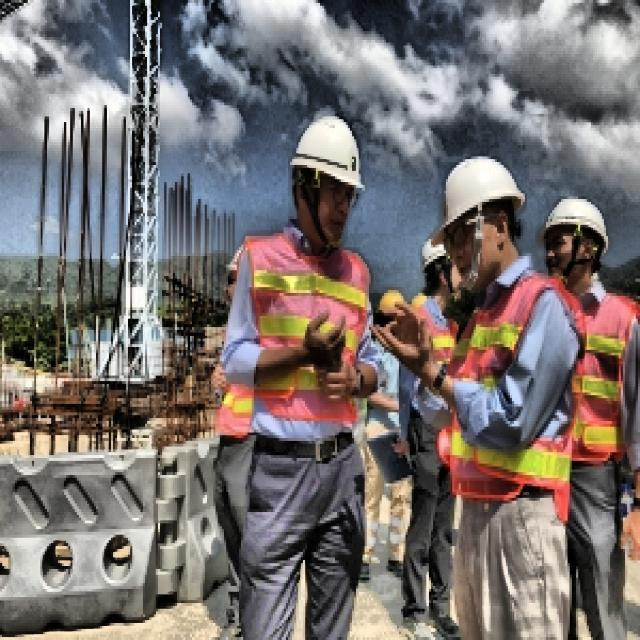safety_helmet: (431, 150, 529, 244), (288, 111, 367, 196), (541, 200, 609, 253), (416, 236, 458, 275)
safety_jacket: (216, 227, 376, 441), (448, 291, 577, 494), (538, 286, 634, 465), (404, 296, 462, 374)
